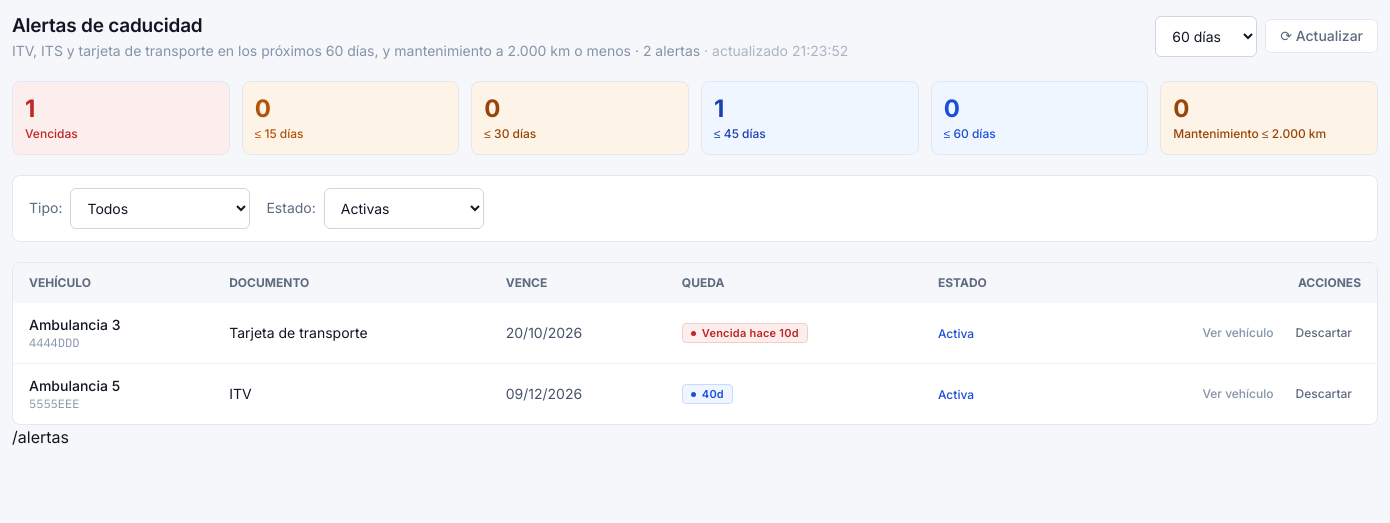
Test: AlertsPage · horizonte de más de 60 días › con un año sale, con su casilla, que la filtra
Select "1 año" in the dropdown showing "60 días" in the row of "21:23:52": point(1206, 36) [1155, 16, 1257, 57]
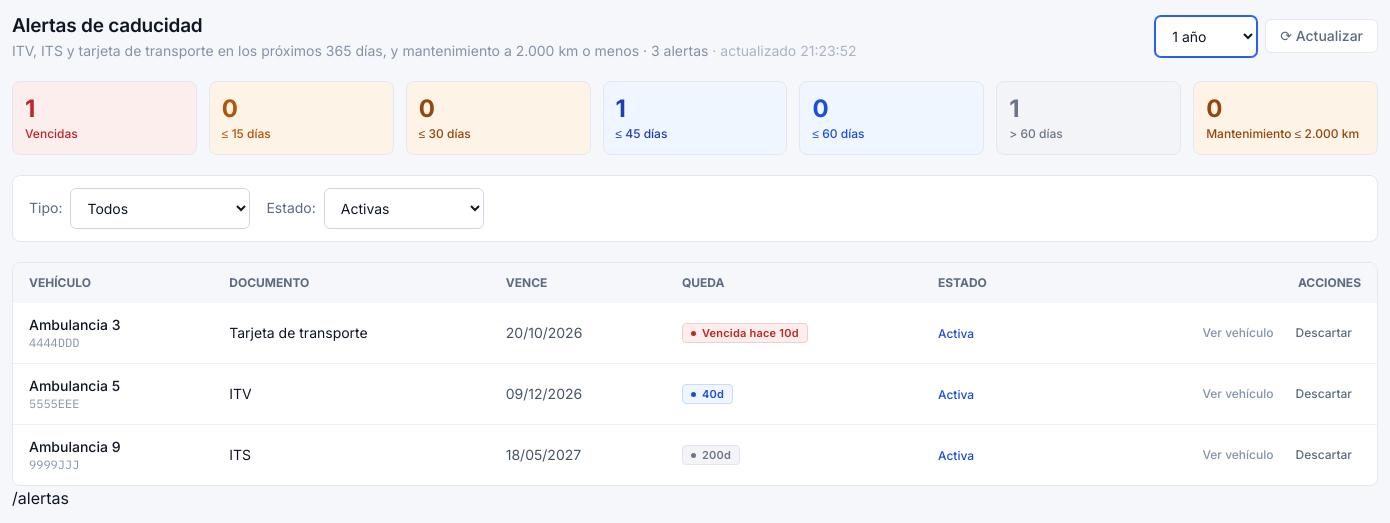
Click the button "1 > 60 días": point(1089, 118) [996, 80, 1181, 154]
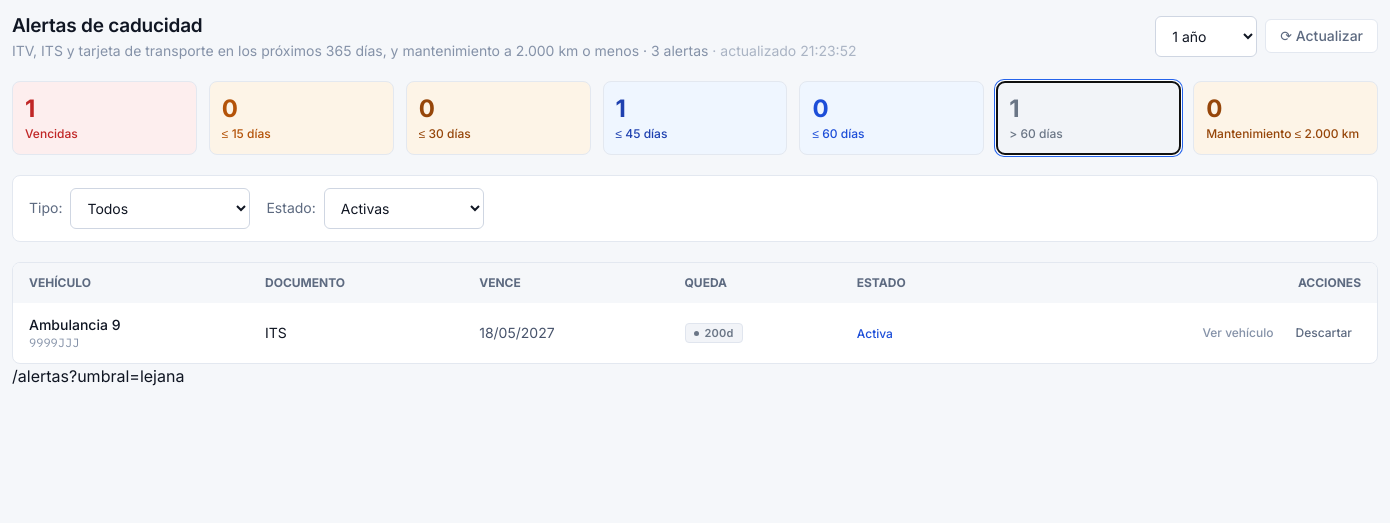
Result: the text with test id "url" shows "umbral=lejana" at [69, 366, 184, 386]
Result: the text "5555EEE" is gone
